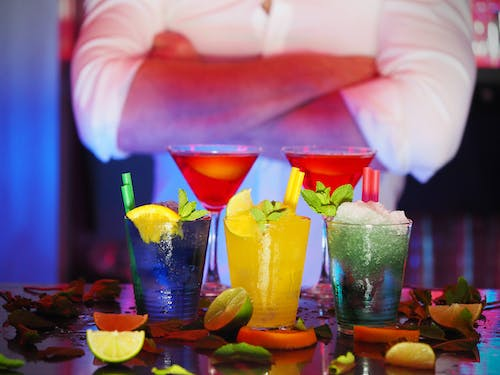alcohol: (279, 145, 379, 303), (165, 143, 267, 297), (323, 216, 413, 336), (222, 215, 311, 329), (121, 213, 212, 320)
